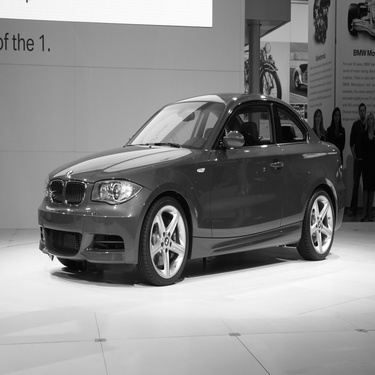car: (31, 90, 349, 289)
